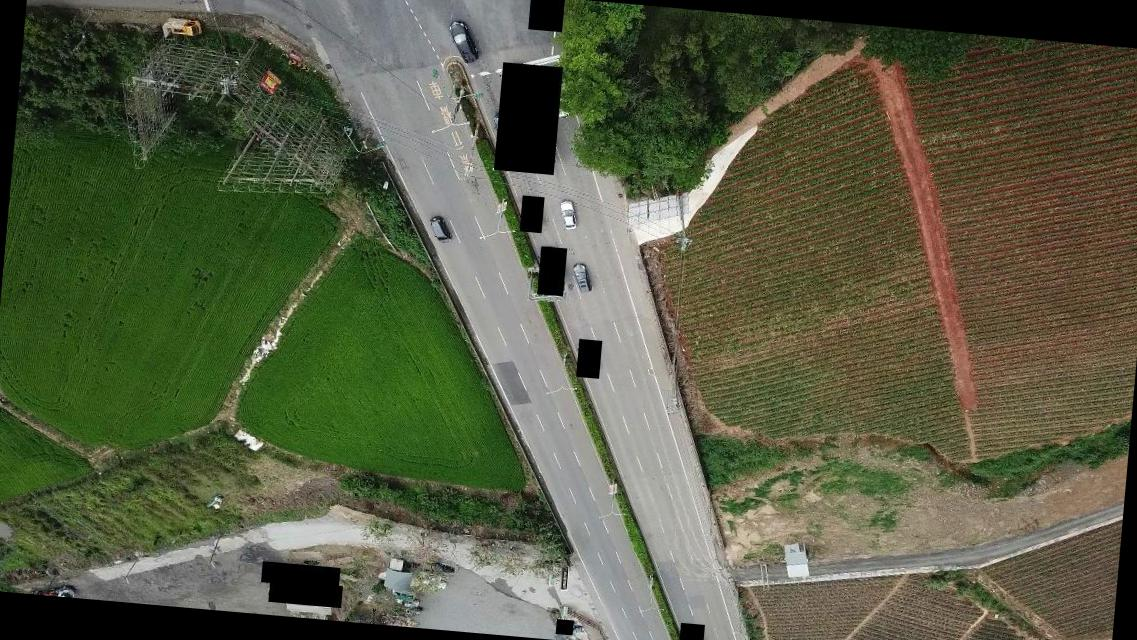vehicle: (445, 18, 482, 66), (489, 111, 521, 158), (166, 15, 203, 38), (568, 262, 593, 296), (558, 198, 582, 232), (429, 216, 452, 246)
